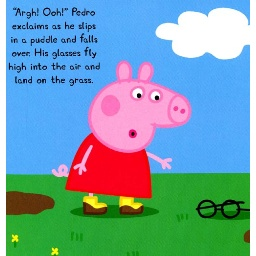Peppa: (51, 60, 193, 219)
